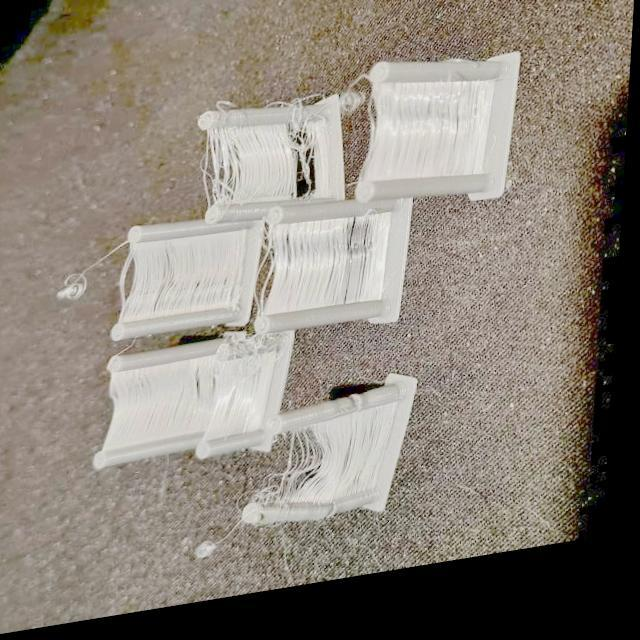stringing: (286, 432, 346, 517), (338, 427, 392, 509), (156, 256, 216, 321), (336, 233, 382, 312), (212, 137, 254, 205), (281, 131, 326, 194), (59, 262, 98, 307)
